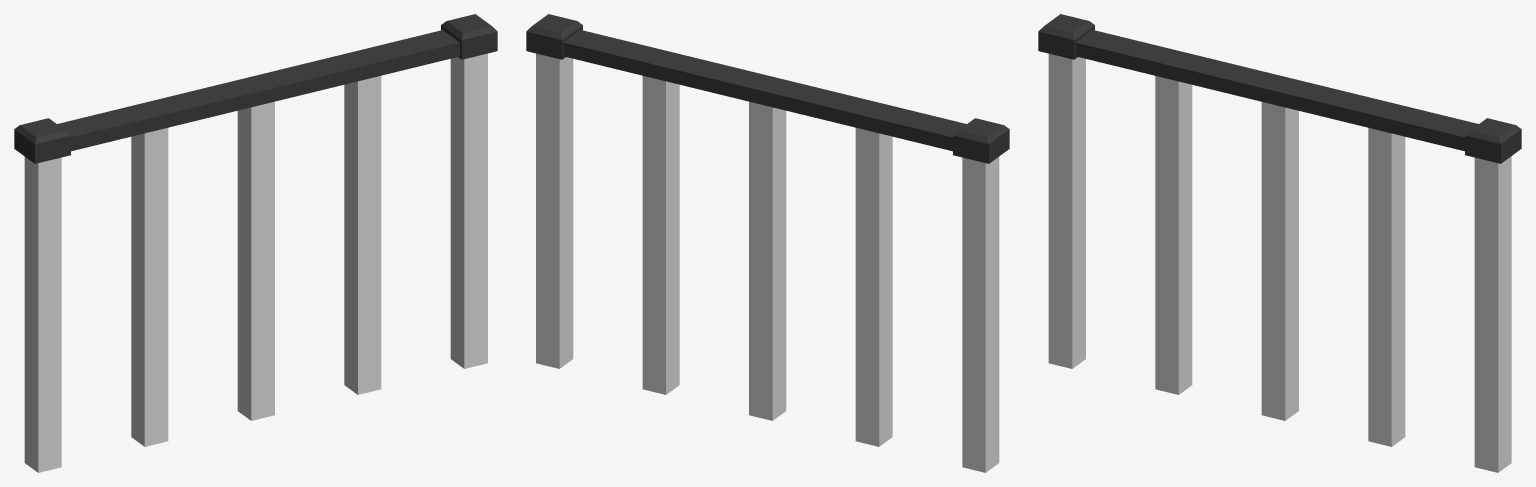
File: StairsPart1_C3.fbx
3 renders of one model, left to right at view 1: azimuth 30°, elevation 25°; view 2: azimuth 150°, elevation 25°; view 3: azimuth 330°, elevation 25°, orthographic.
Parts seen in each view (by area): view 1: StairsPart1_C3; view 2: StairsPart1_C3; view 3: StairsPart1_C3.
Boxes of the visible parts, <box> form: StairsPart1_C3: <box>14,14,497,472</box>; StairsPart1_C3: <box>526,14,1009,472</box>; StairsPart1_C3: <box>1038,14,1521,472</box>.
Bounding box in the file's own units: 142 × 98.99 × 11.02.
